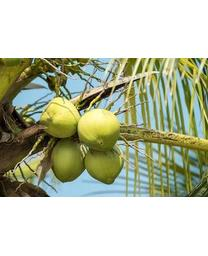coconut: (39, 94, 79, 140), (77, 108, 118, 151), (84, 146, 127, 182), (52, 142, 85, 183)
